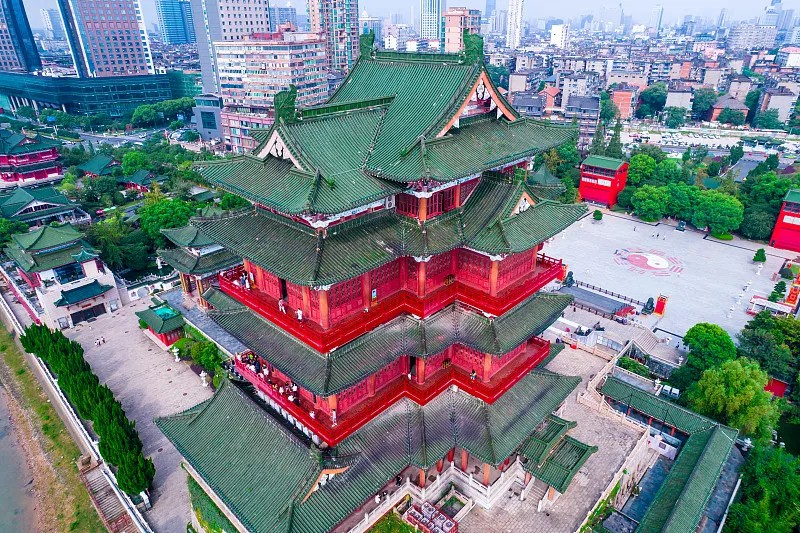Teng: (135, 30, 598, 533)
